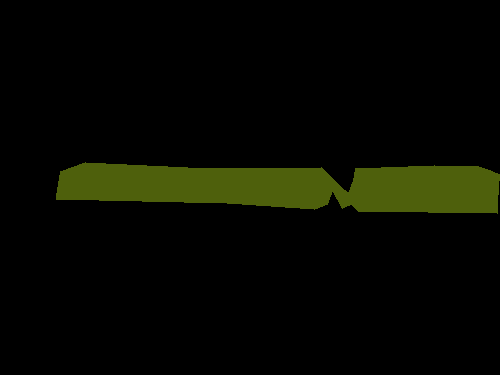Train: (56, 162, 500, 213)
